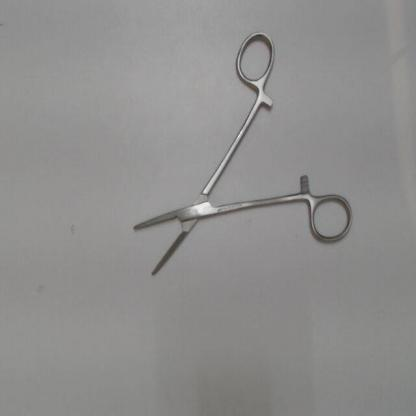Mayo Needle Holder: (124, 24, 358, 284)
